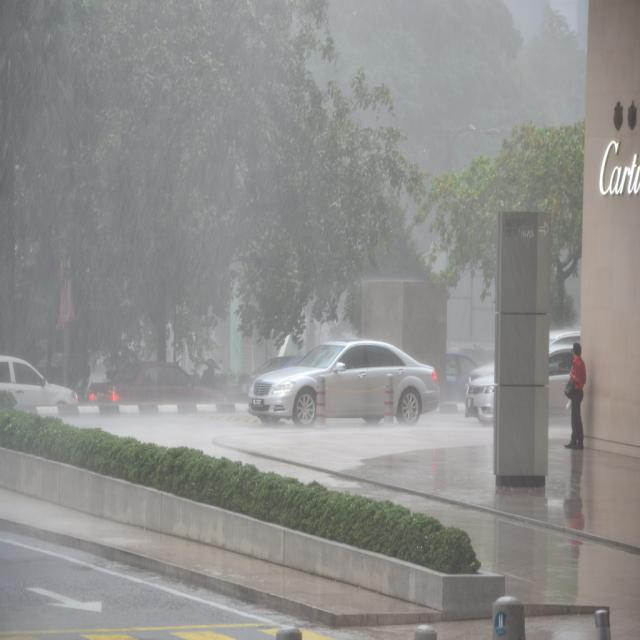car: (244, 336, 443, 422)
